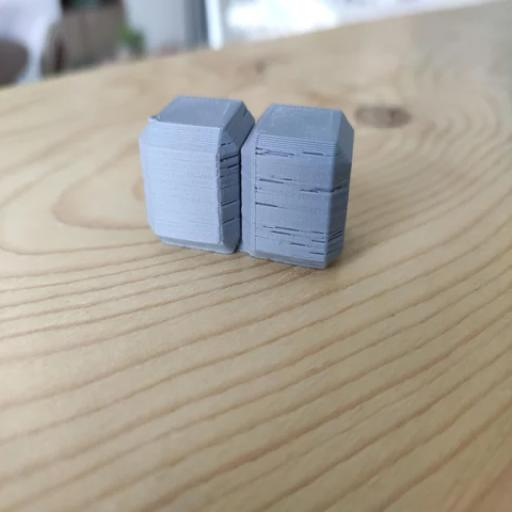cracks: (248, 205, 351, 264), (252, 140, 343, 197), (209, 132, 243, 250)
